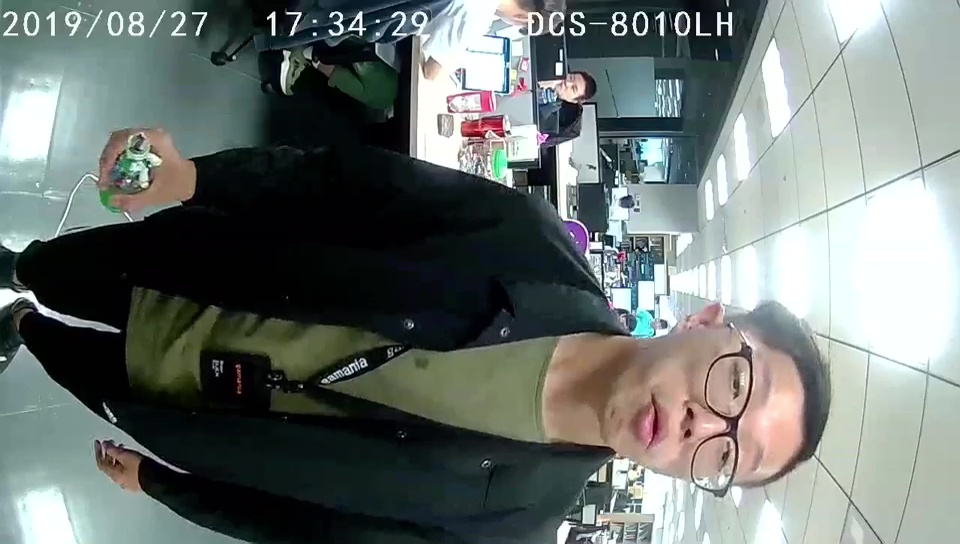buzz: (98, 130, 162, 213)
